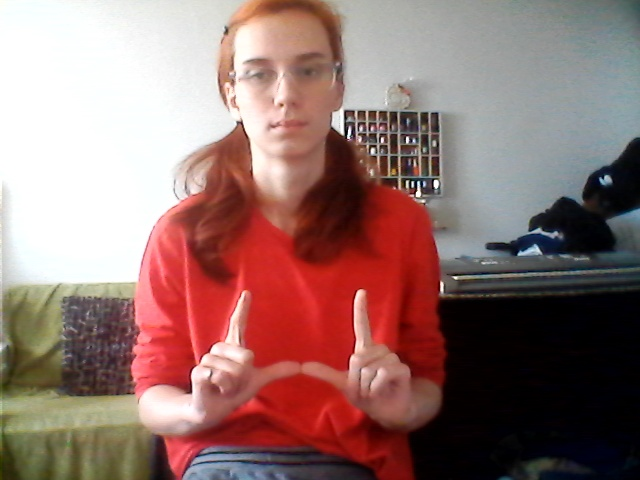u: (179, 290, 432, 427)
